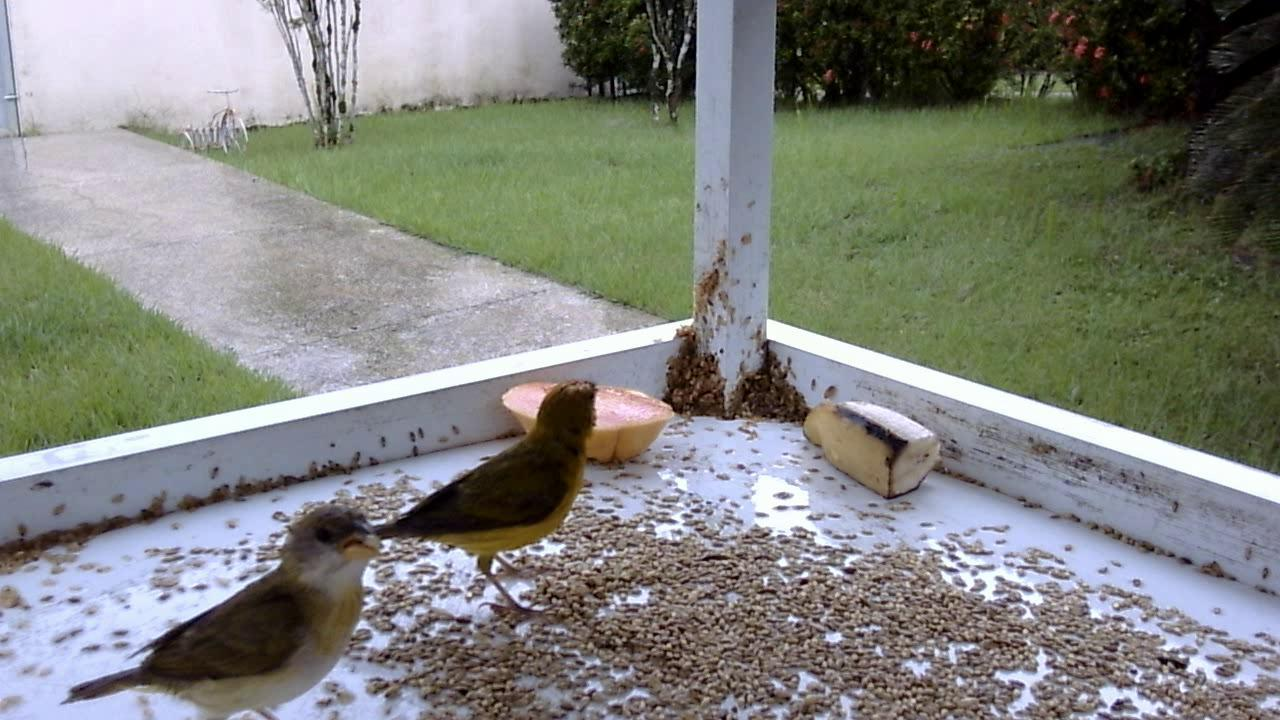canario_do_amazonas: (52, 497, 392, 720), (349, 381, 606, 633)
